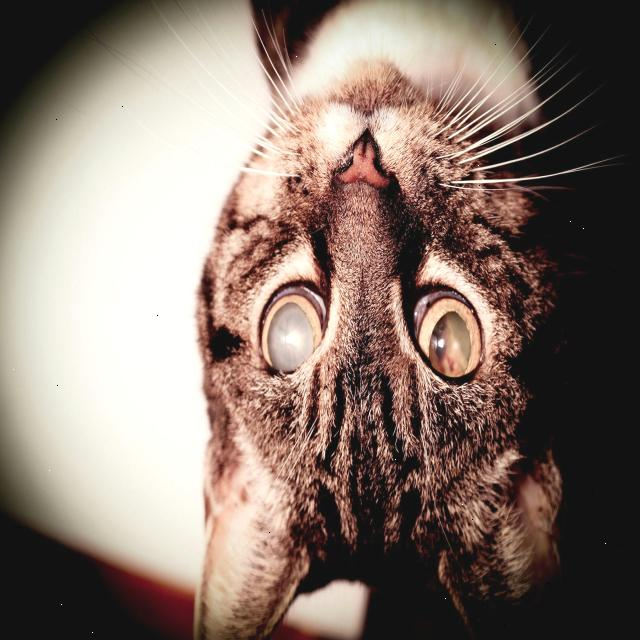cat-eye: (249, 272, 337, 386)
cat-eye-normal: (397, 272, 498, 400)
